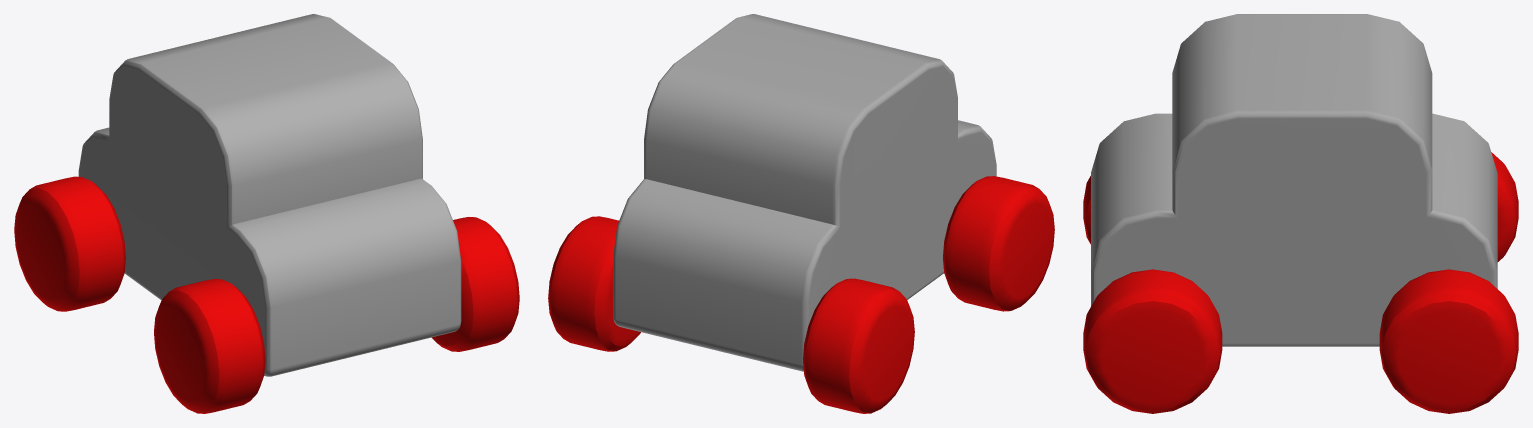
File: Car.fbx
3 renders of one model, left to right at view 1: azimuth 30°, elevation 25°; view 2: azimuth 150°, elevation 25°; view 3: azimuth 270°, elevation 25°, orthographic. The views are drawn at different scales.
Parts seen in each view (by area): view 1: Car_Prefab; view 2: Car_Prefab; view 3: Car_Prefab.
Boxes of the visible parts, x1,y1,x2,y2 form: Car_Prefab: (14, 14, 519, 413); Car_Prefab: (548, 14, 1054, 413); Car_Prefab: (1083, 14, 1518, 413).
Bounding box in the file's own units: 0.00454 × 0.00361 × 0.00516.
